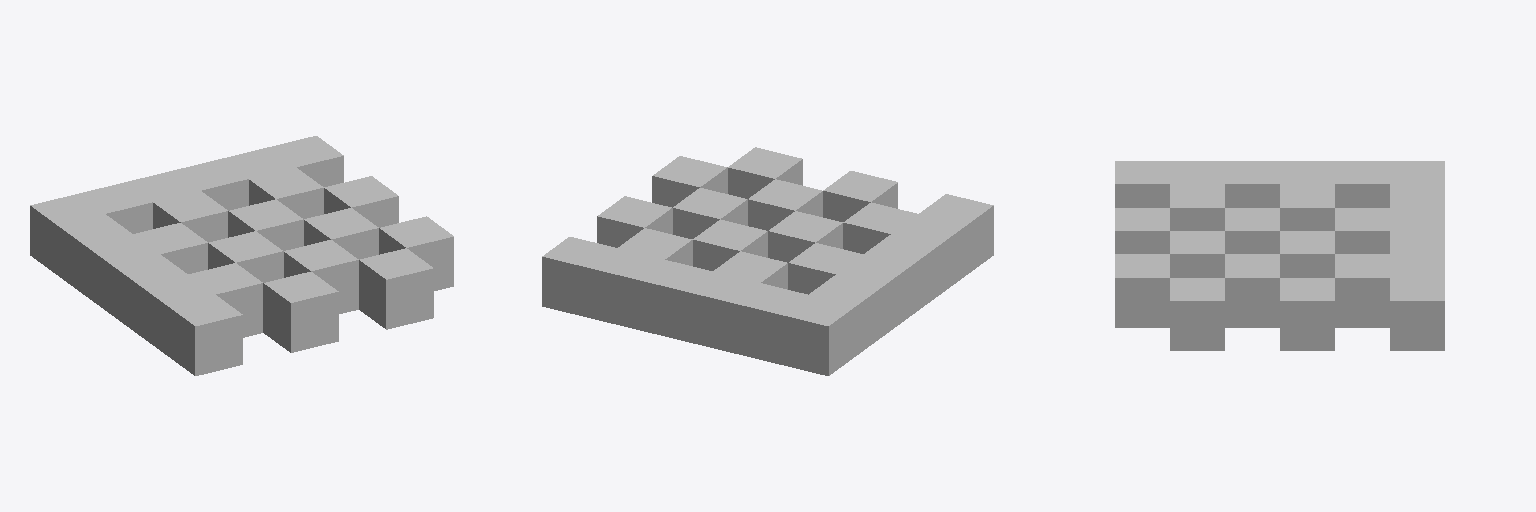
The model's file is Corner Grate U.obj.
3 views of the same model, side by side, from view 1: azimuth 30°, elevation 25°; view 2: azimuth 150°, elevation 25°; view 3: azimuth 270°, elevation 25° (orthographic).
Visible parts, largest first — view 1: object 1; view 2: object 1; view 3: object 1.
Boxes of the visible parts, x1,y1,x2,y2 form: object 1: [30, 136, 453, 375]; object 1: [542, 147, 993, 375]; object 1: [1115, 161, 1444, 350].
Bounding box in the file's own units: 0.6 × 0.1 × 0.6.